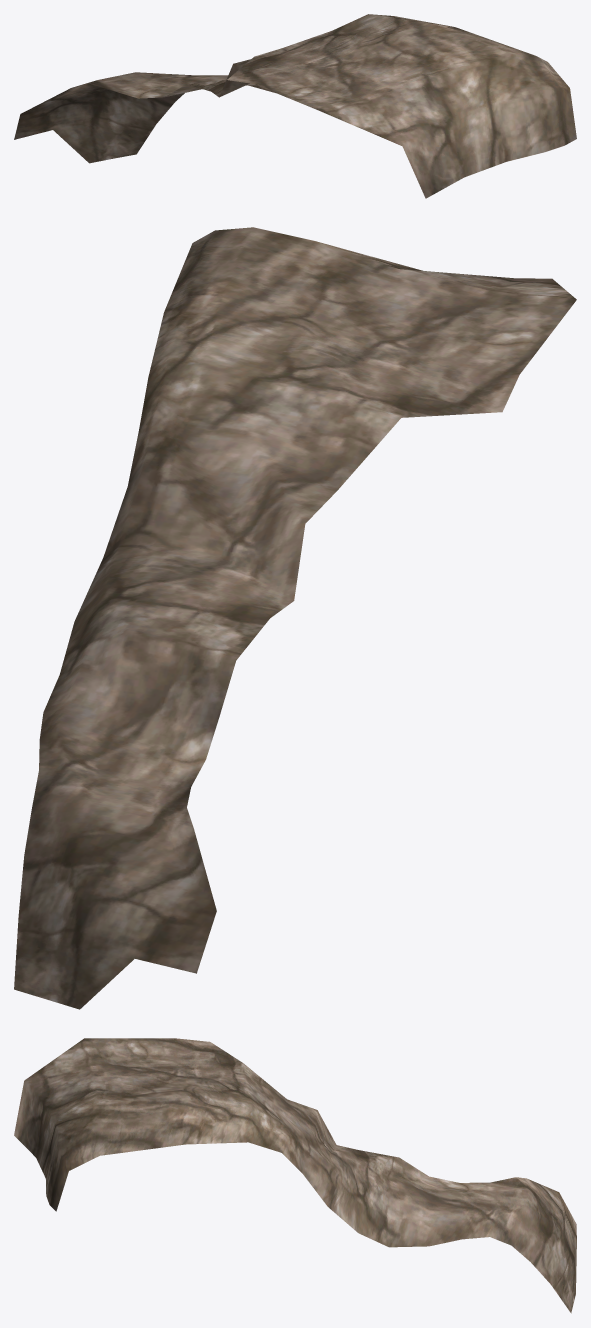
The model's file is EKH_THRONE_PS_TH_THRONE_DAM_05.fbx.
3 renders of one model, top to bottom at view 1: azimuth 30°, elevation 25°; view 2: azimuth 150°, elevation 25°; view 3: azimuth 270°, elevation 25°, orthographic. The views are drawn at different scales.
Parts seen in each view (by area): view 1: EKH_THRONE_PS_TH_THRONE_DAM_05; view 2: EKH_THRONE_PS_TH_THRONE_DAM_05; view 3: EKH_THRONE_PS_TH_THRONE_DAM_05.
Part boxes in pixels (x1,y1,x2,y2): EKH_THRONE_PS_TH_THRONE_DAM_05: (14,14,576,198); EKH_THRONE_PS_TH_THRONE_DAM_05: (14,227,576,1009); EKH_THRONE_PS_TH_THRONE_DAM_05: (14,1038,576,1313).
Bounding box in the file's own units: 49093 × 45322 × 96524.
Materials: 1 (1 with a texture image).
